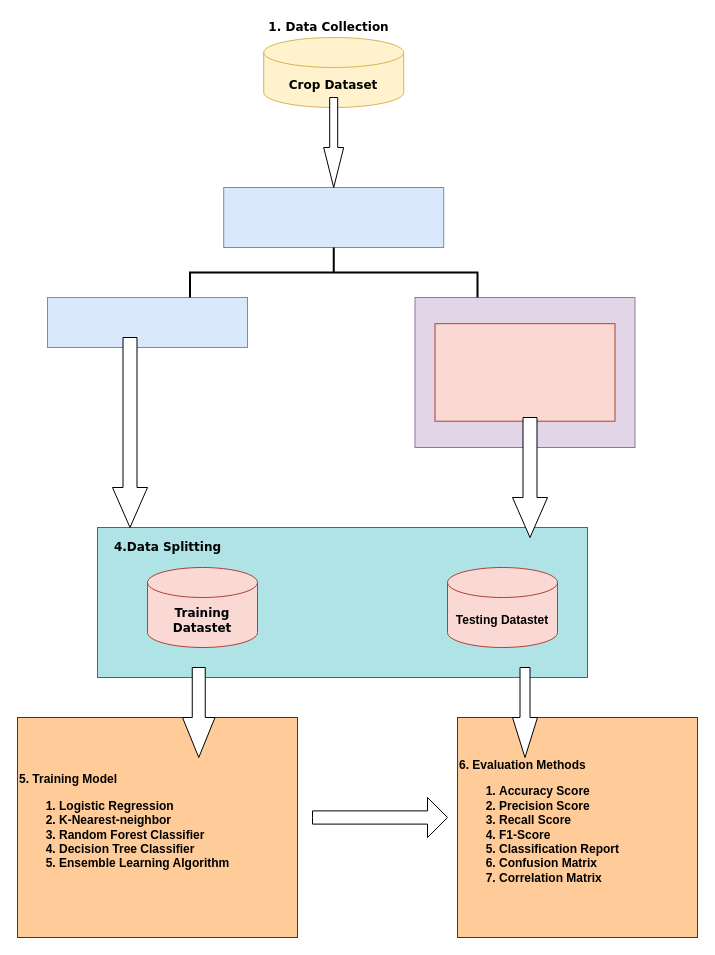
Some shapes in this 715 by 955 pixel diagram are drawn without their labels. The shapes that lost their labels are listed below. From the top down, each one's centre as x and y in pixels, then its label:
At point (333, 217): "2. Data Preprocessing".
At point (147, 322): "Full Features".
At point (524, 372): "Feature selection Feature Scaling".
